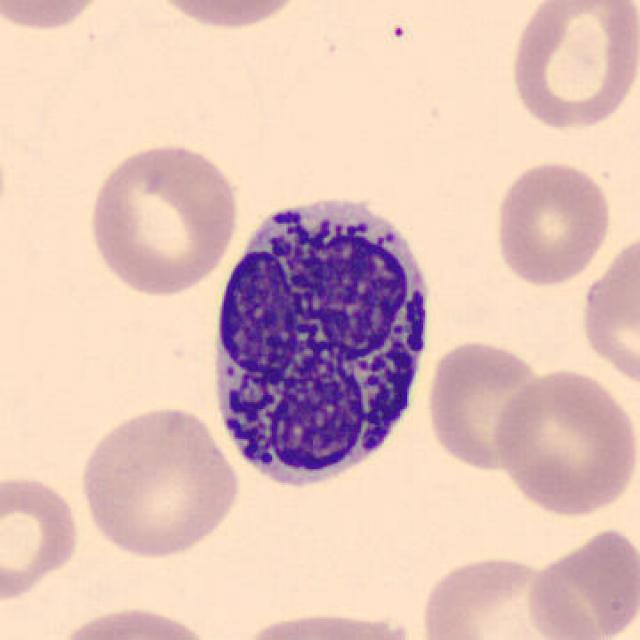Basophil: (198, 178, 444, 501)
RBC: (75, 400, 244, 562), (84, 138, 244, 300), (489, 365, 638, 520), (505, 0, 640, 132), (421, 335, 551, 472), (491, 155, 615, 289), (416, 550, 599, 640), (523, 522, 638, 640), (0, 467, 84, 607), (576, 228, 638, 393), (229, 606, 424, 640), (51, 603, 217, 640), (144, 0, 311, 33), (0, 0, 115, 35)
